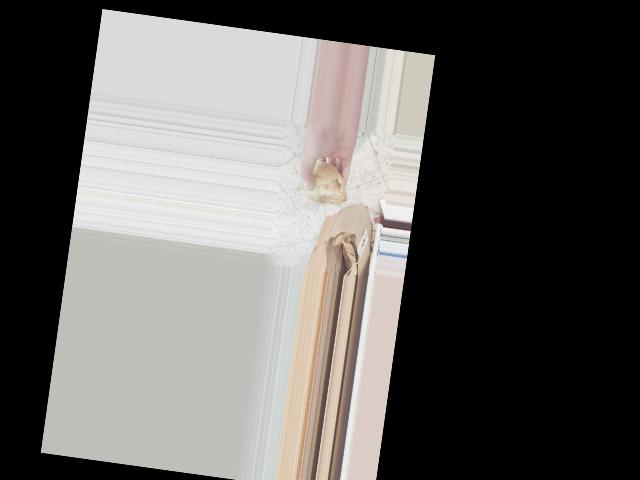onion: (297, 155, 352, 211)
